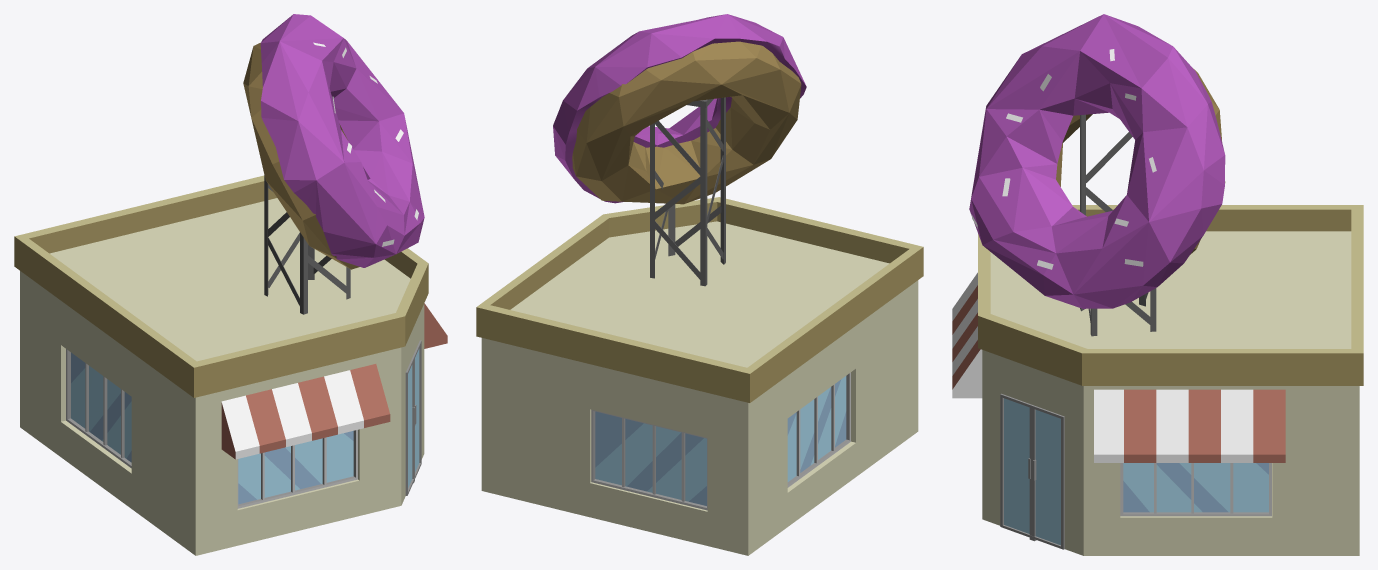
File: cafe_008.glb
3 renders of one model, left to right at view 1: azimuth 30°, elevation 25°; view 2: azimuth 150°, elevation 25°; view 3: azimuth 270°, elevation 25°, orthographic. The views are drawn at different scales.
Visible parts, largest first — view 1: cafe_008; view 2: cafe_008; view 3: cafe_008.
Part boxes in pixels (x1=…): cafe_008: x1=14, y1=14, x2=447, y2=555; cafe_008: x1=476, y1=14, x2=923, y2=555; cafe_008: x1=952, y1=14, x2=1363, y2=555.
Size of the model in its own units: 5.77 by 7.91 by 6.23.
1 material, 1 textured.
